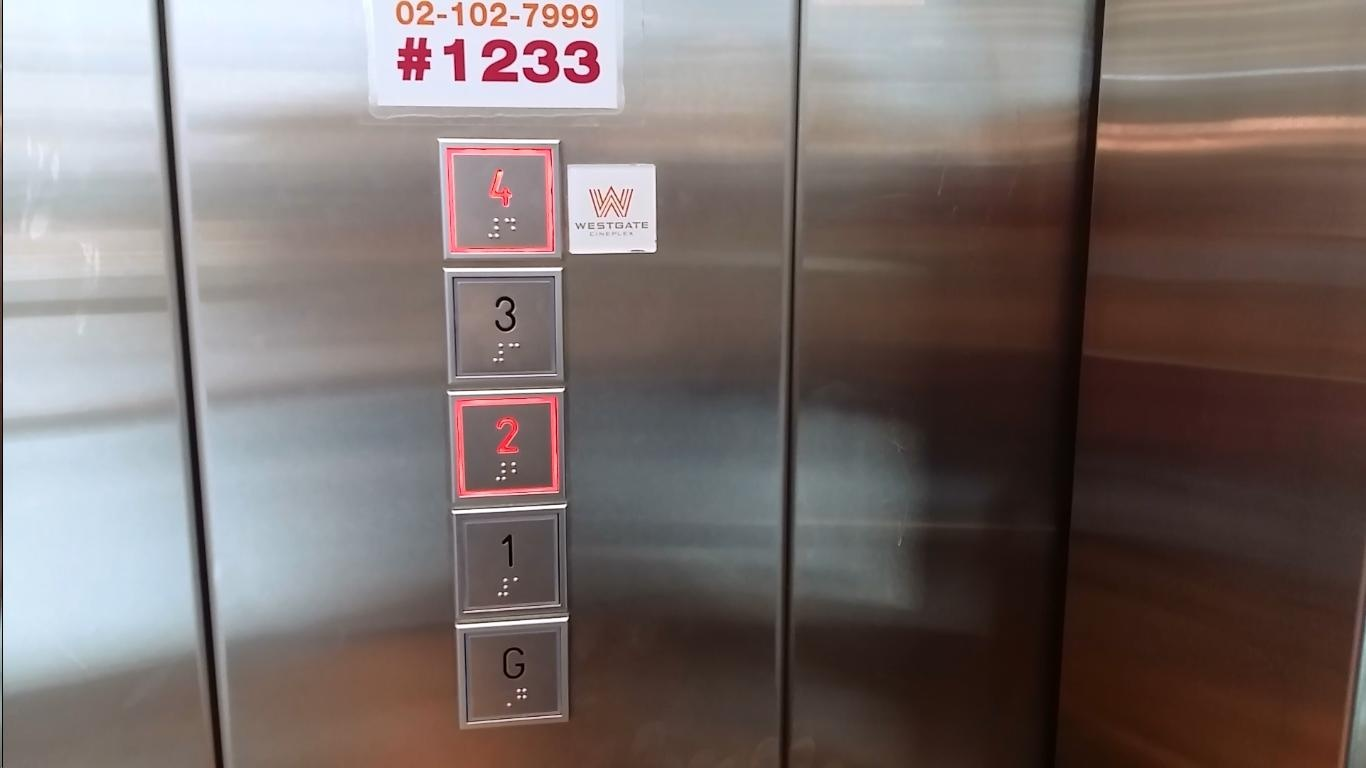1: (447, 505, 573, 617)
2: (446, 388, 568, 505)
3: (443, 268, 566, 385)
4: (436, 137, 563, 260)
G: (453, 614, 570, 729)
